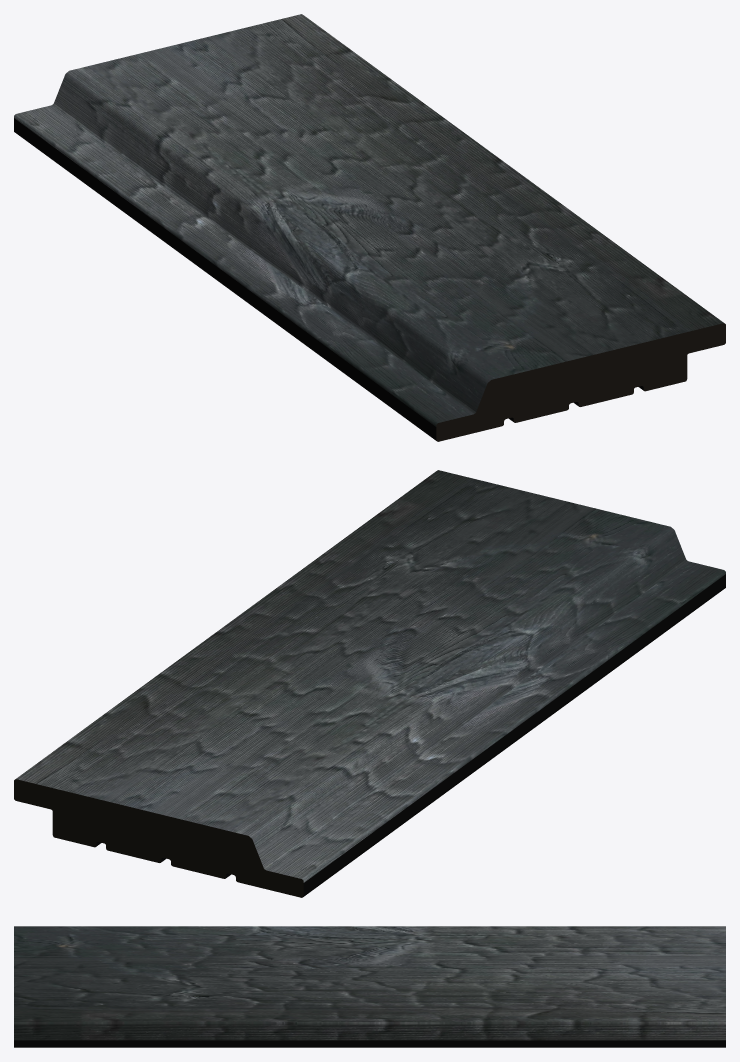
File: thermo-facade-half-tongue-black.glb
The picture shows the model from 3 angles, top to bottom: view 1: azimuth 30°, elevation 25°; view 2: azimuth 150°, elevation 25°; view 3: azimuth 270°, elevation 25°; orthographic projection. The views are drawn at different scales.
Parts seen in each view (by area): view 1: Pusė_Špunto; view 2: Pusė_Špunto; view 3: Pusė_Špunto.
Boxes of the visible parts, x1,y1,x2,y2 form: Pusė_Špunto: (14,14,725,441); Pusė_Špunto: (14,470,725,897); Pusė_Špunto: (14,926,725,1047).
Size of the model in its own units: 0.0723 by 0.0117 by 0.1826.
Materials: 3 (1 with a texture image).
